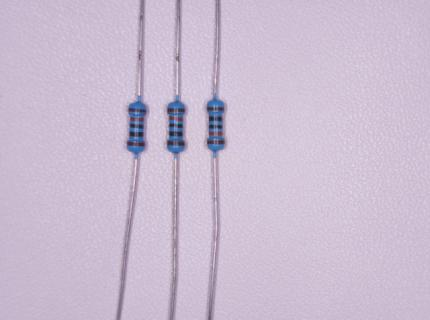Black band: (129, 131, 143, 137), (209, 116, 223, 122), (130, 123, 144, 128), (169, 123, 183, 128), (169, 131, 183, 136), (209, 125, 222, 129)
Brown band: (128, 108, 146, 113), (167, 141, 185, 146), (127, 141, 145, 146), (207, 106, 224, 111), (167, 108, 185, 112), (207, 140, 225, 144)
Orange band: (169, 116, 183, 121), (130, 117, 144, 122), (209, 132, 222, 136)
